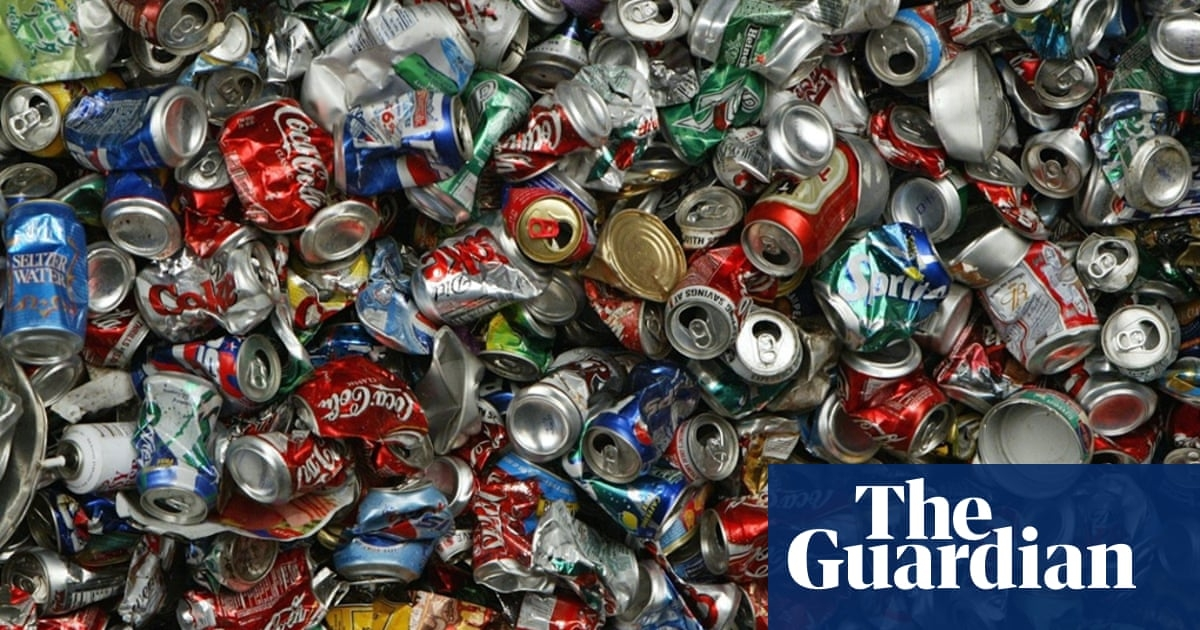metal: (718, 122, 904, 282), (293, 1, 494, 138), (946, 218, 1108, 379), (381, 202, 570, 331), (803, 206, 961, 357), (321, 80, 494, 211), (281, 350, 454, 478), (688, 471, 873, 589), (207, 91, 347, 237), (1083, 64, 1200, 232), (959, 368, 1099, 507), (486, 339, 633, 470), (322, 456, 453, 602), (634, 231, 781, 360), (122, 360, 229, 535), (571, 354, 705, 487), (906, 33, 1026, 179), (52, 75, 210, 178), (1, 196, 98, 363), (471, 76, 624, 180), (652, 57, 783, 174), (179, 543, 354, 630), (220, 417, 375, 511), (26, 404, 158, 511), (683, 1, 835, 88), (463, 457, 554, 600), (4, 531, 145, 622), (1066, 368, 1175, 482), (1077, 284, 1187, 389), (490, 176, 604, 272), (851, 2, 949, 94), (87, 1, 237, 57), (1015, 120, 1097, 204), (1068, 224, 1144, 300), (596, 1, 701, 48)
